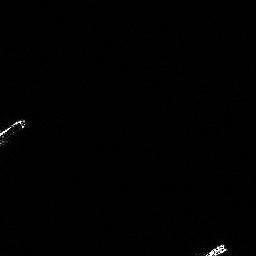ship: (1, 119, 38, 146), (199, 242, 234, 256)
